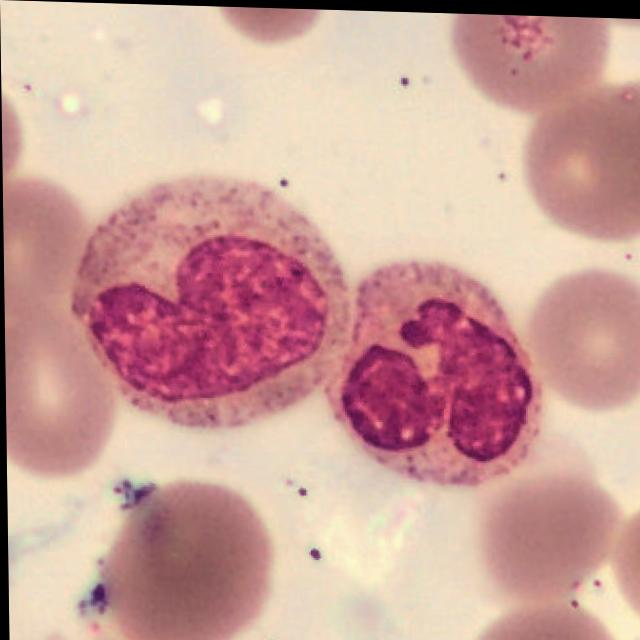Metamielocito: (70, 175, 352, 430)
Neutrofilo segmentado: (338, 259, 541, 485)
